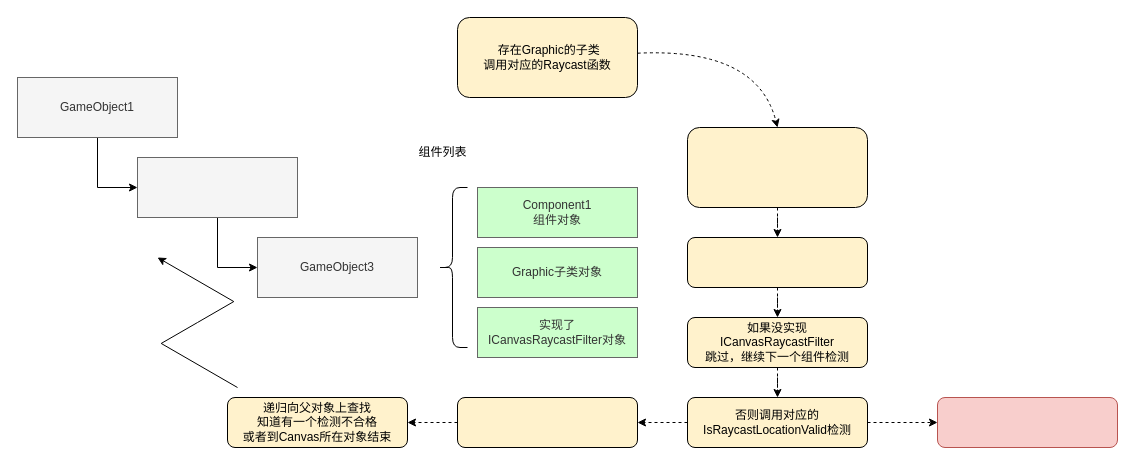
This 1135x465 diagram has some shape labels left out. The shapes that lost their labels are listed below. From the top down, each one's centre as x and y in pixels, then its label:
point 217,187: GameObject2
point 777,167: Graphic对象的Raycast默认实现 获取GameObject上的所有组件 依次进行检测 可大致描述如下
point 777,262: 如果有Canvas组件 并且Canvas勾选OverrideSorting 则不在递归向上查找
point 547,422: 继续下一个组件检测 直到所有组件检测完毕
point 1027,422: 检测不合格 直接返回false 检测失败
